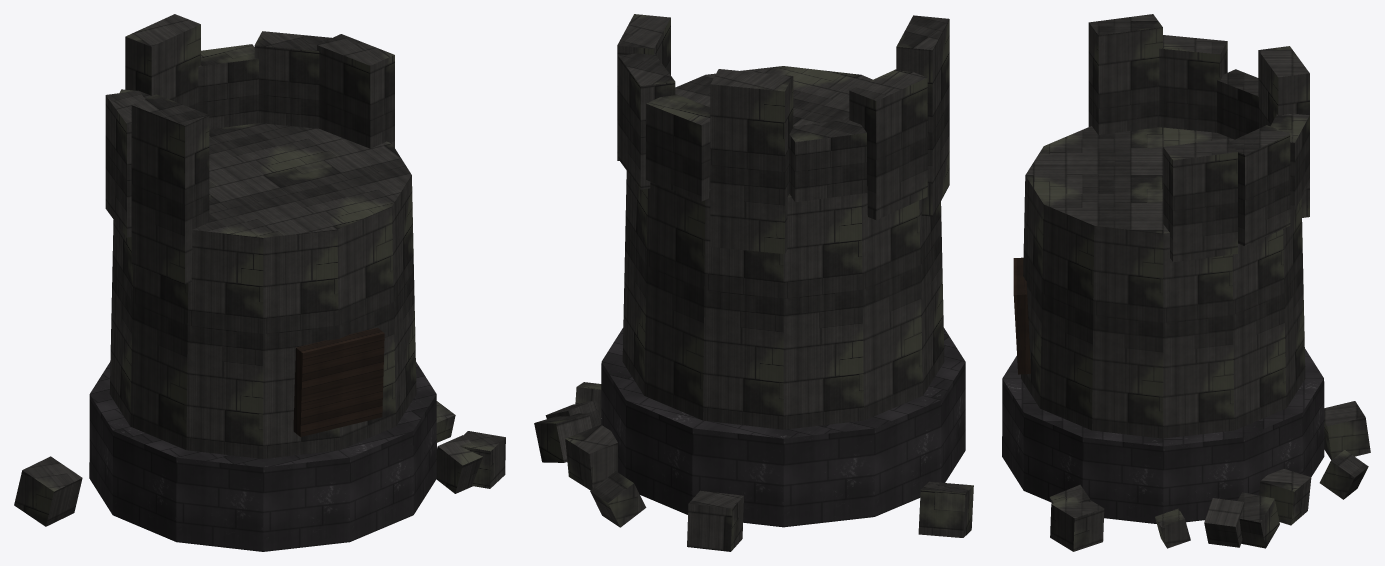
Rendered from TorreRota.gltf.
The picture shows the model from 3 angles, left to right: view 1: azimuth 30°, elevation 25°; view 2: azimuth 150°, elevation 25°; view 3: azimuth 270°, elevation 25°; orthographic projection. The views are drawn at different scales.
Visible parts, largest first — view 1: TorreRota; view 2: TorreRota; view 3: TorreRota.
Boxes of the visible parts, x1,y1,x2,y2 form: TorreRota: (14,14,505,551); TorreRota: (534,14,973,551); TorreRota: (1002,14,1370,551).
Size of the model in its own units: 15.1 by 15.12 by 12.83.
3 materials, 3 textured.
